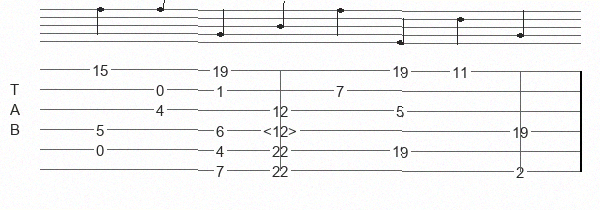0: (96, 143, 108, 158), (156, 83, 168, 98)
1: (216, 83, 228, 98)
11: (452, 63, 472, 78)
12: (272, 103, 292, 118)
15: (92, 63, 112, 78)
19: (212, 63, 232, 78), (392, 63, 412, 78), (392, 143, 412, 158), (512, 123, 532, 138)
2: (516, 163, 528, 178)
22: (272, 163, 292, 178), (272, 143, 292, 158)
4: (156, 103, 168, 118), (216, 143, 228, 158)
5: (96, 123, 108, 138), (396, 103, 408, 118)
6: (216, 123, 228, 138)
7: (216, 163, 228, 178), (336, 83, 348, 98)
harmonic: (263, 123, 301, 138)
